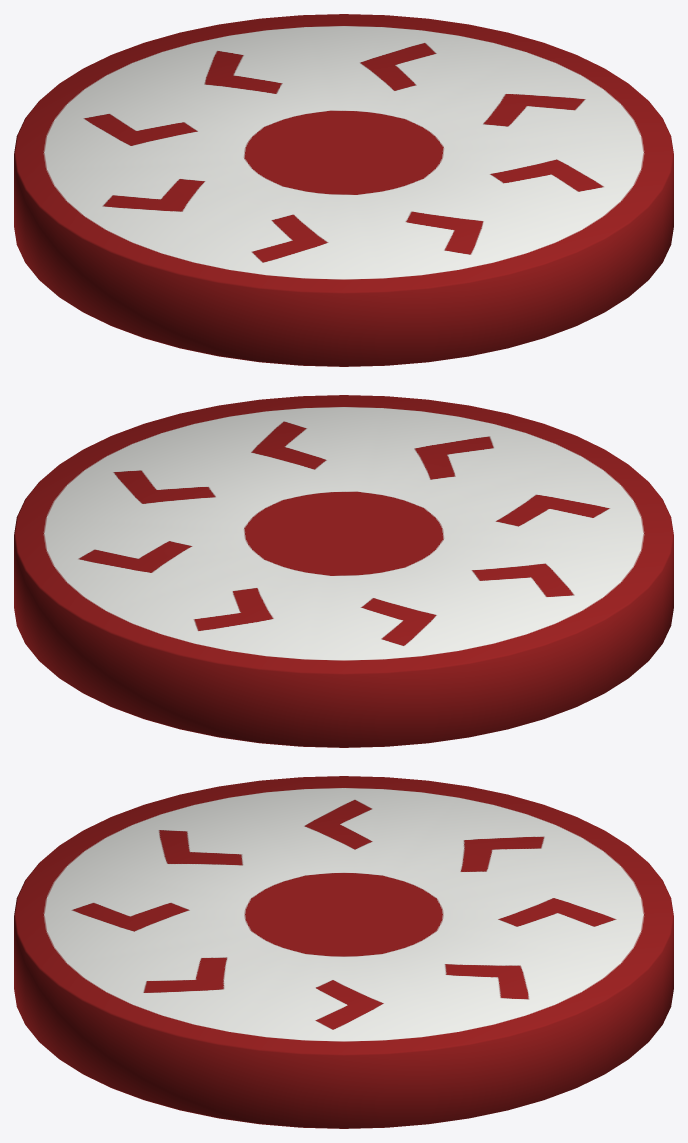
File: E_SpinningWheel_Small.fbx
3 views of the same model, one above another, from view 1: azimuth 30°, elevation 25°; view 2: azimuth 150°, elevation 25°; view 3: azimuth 270°, elevation 25° (orthographic).
Parts seen in each view (by area): view 1: SpinningWheel_Small; view 2: SpinningWheel_Small; view 3: SpinningWheel_Small.
Boxes of the visible parts, x1=… form: SpinningWheel_Small: x1=14, y1=14, x2=673, y2=366; SpinningWheel_Small: x1=14, y1=395, x2=673, y2=747; SpinningWheel_Small: x1=14, y1=776, x2=673, y2=1128.
Bounding box in the file's own units: 397 × 50 × 397.
